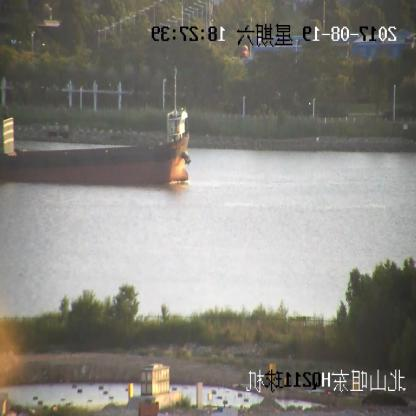Bulk Carrier: (0, 109, 189, 185)
